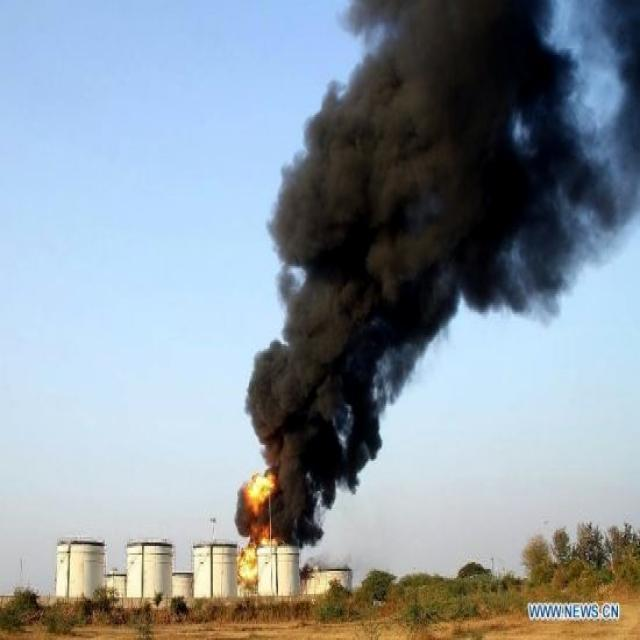Fire: (236, 463, 282, 596)
Smoke: (266, 0, 640, 507)
